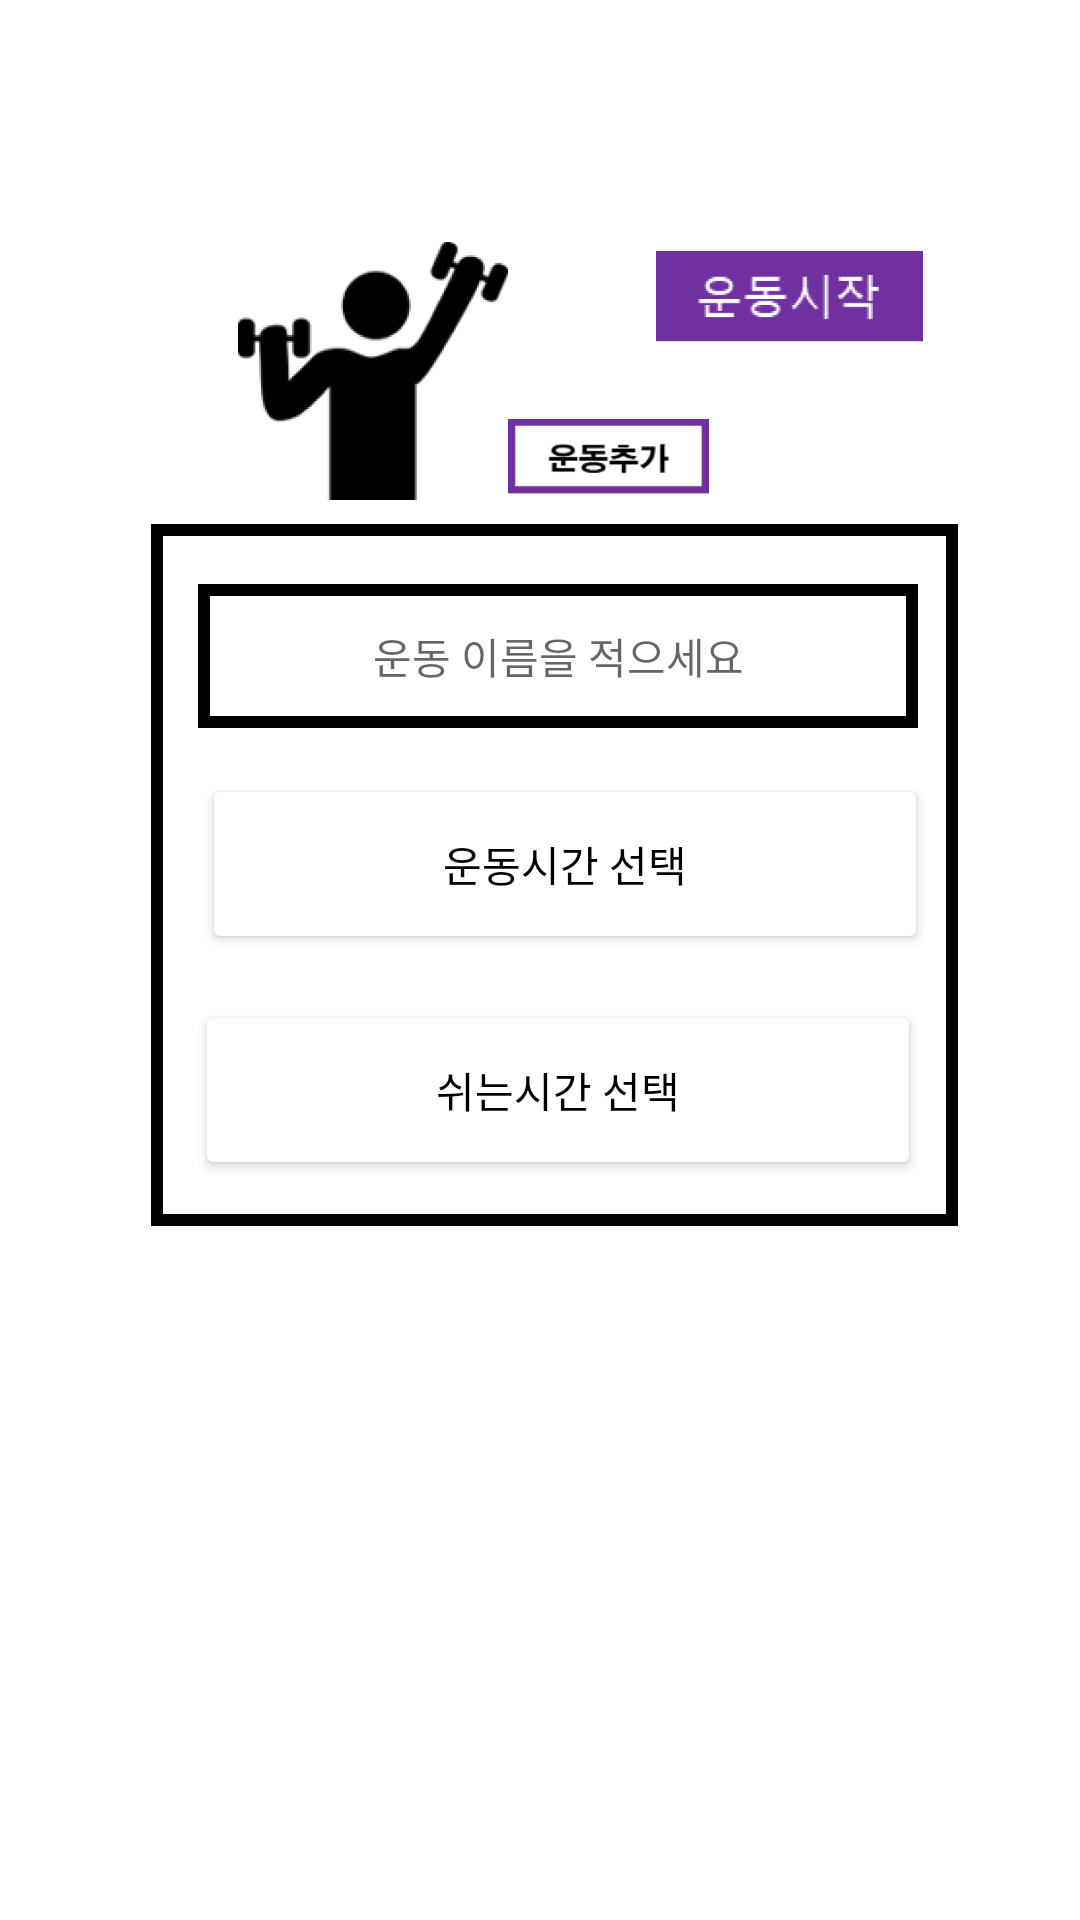

Screen size 1080x1920. Icon name, then its box in pixels as [x1=x1, y1=y1, x2=x2, y2=y2]:
exercise: [x1=238, y1=242, x2=508, y2=500]
